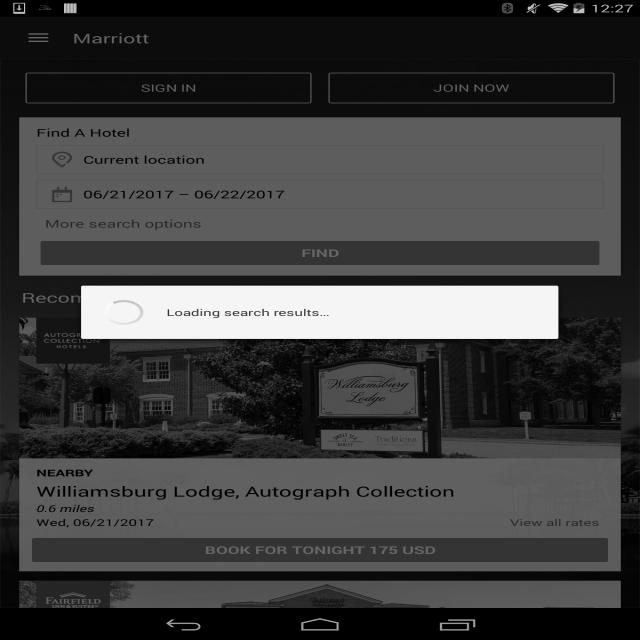ImageButton: (9, 17, 68, 59)
ImageView: (11, 131, 629, 360), (11, 369, 629, 597), (10, 606, 629, 640)
RatingBar: (28, 431, 92, 438), (28, 194, 92, 200)
TextView: (28, 142, 505, 164), (0, 63, 640, 77), (0, 77, 640, 91), (28, 380, 418, 401), (492, 22, 632, 54), (72, 29, 226, 47), (28, 165, 178, 178), (28, 403, 178, 415), (472, 309, 604, 322), (472, 547, 604, 560), (525, 322, 570, 344), (525, 560, 570, 581), (28, 415, 89, 428), (28, 178, 89, 190), (92, 190, 140, 204), (92, 428, 140, 442), (331, 104, 365, 117), (275, 104, 306, 117), (574, 329, 604, 342), (574, 567, 604, 579)
